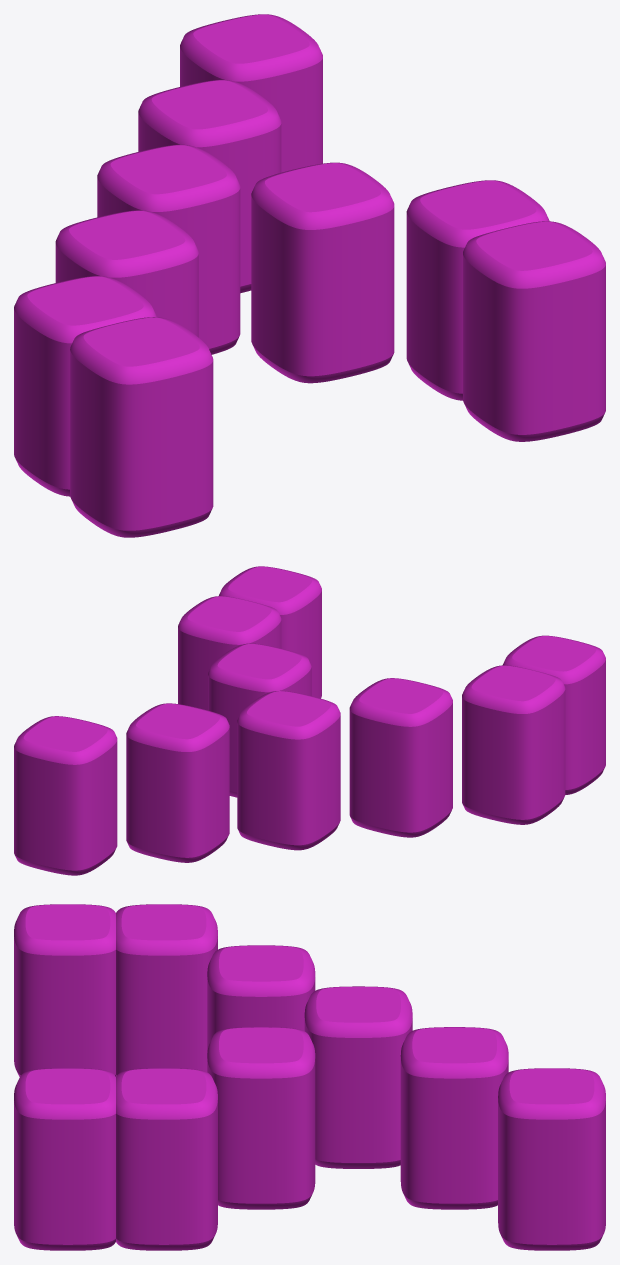
File: Letter_Y.fbx
3 renders of one model, top to bottom at view 1: azimuth 30°, elevation 25°; view 2: azimuth 150°, elevation 25°; view 3: azimuth 270°, elevation 25°, orthographic. The views are drawn at different scales.
Parts seen in each view (by area): view 1: Letter_Y; view 2: Letter_Y; view 3: Letter_Y.
Part boxes in pixels (<box>): Letter_Y: <box>14,14,605,537</box>; Letter_Y: <box>14,566,605,875</box>; Letter_Y: <box>14,904,605,1250</box>.
Bounding box in the file's own units: 0.4311 × 0.14 × 0.5146.
